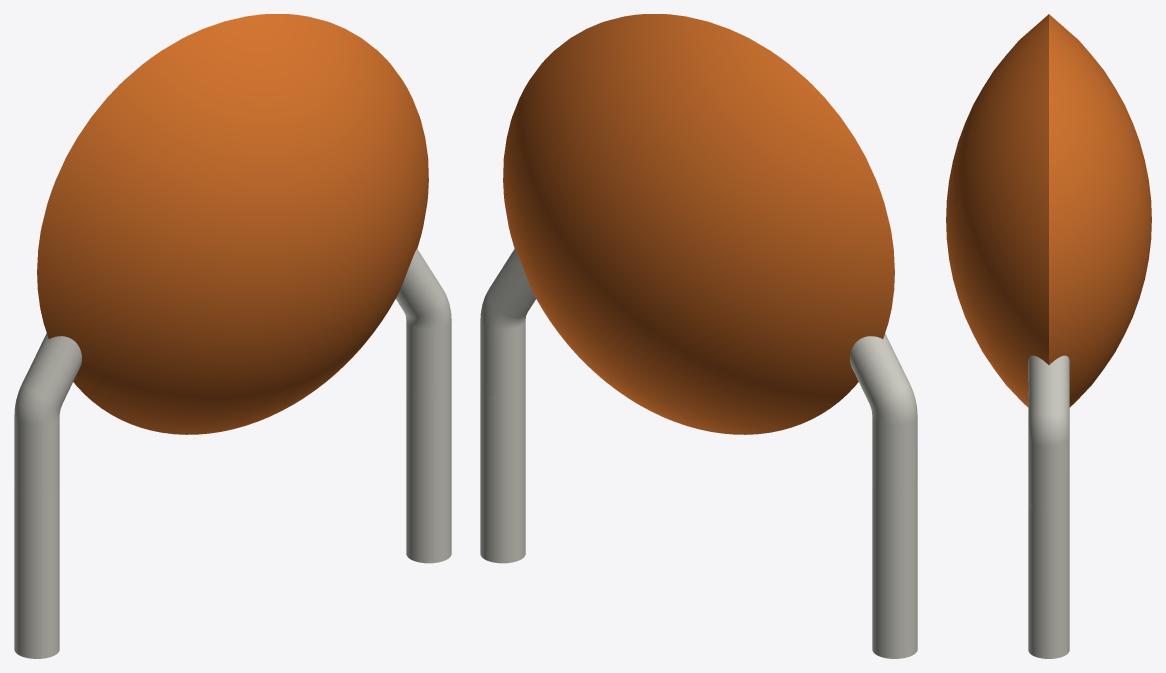
The model's file is c_disc_d5_0mm_w2_5mm_p5_00mm.glb.
3 renders of one model, left to right at view 1: azimuth 30°, elevation 25°; view 2: azimuth 150°, elevation 25°; view 3: azimuth 270°, elevation 25°, orthographic. The views are drawn at different scales.
Visible parts, largest first — view 1: cap_ceramic_104, pin_2, pin_1; view 2: cap_ceramic_104, pin_2, pin_1; view 3: cap_ceramic_104, pin_2.
Part boxes in pixels (x1,y1,x2,y2): cap_ceramic_104: (14, 14, 451, 494); pin_2: (406, 390, 451, 563); pin_1: (14, 485, 59, 658); cap_ceramic_104: (480, 14, 917, 494); pin_2: (480, 390, 525, 563); pin_1: (872, 485, 917, 658); cap_ceramic_104: (946, 14, 1151, 509); pin_2: (1028, 501, 1069, 658).
Bounding box in the file's own units: 0.0055 × 0.0071 × 0.0025.
